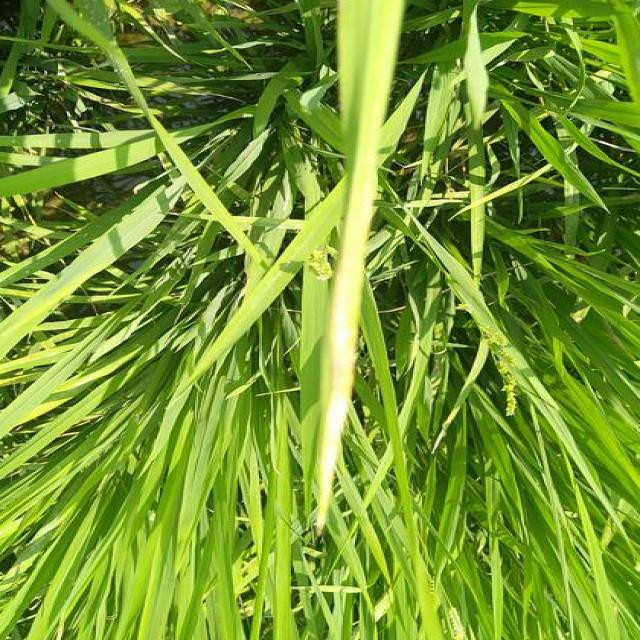Leaf Blight: (322, 97, 386, 513)
